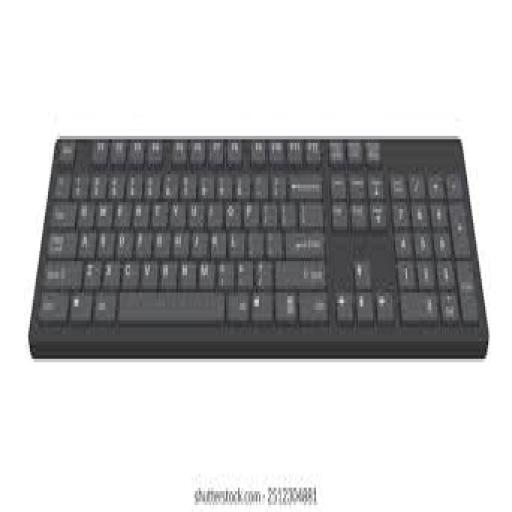keyboard: (28, 139, 487, 355)
